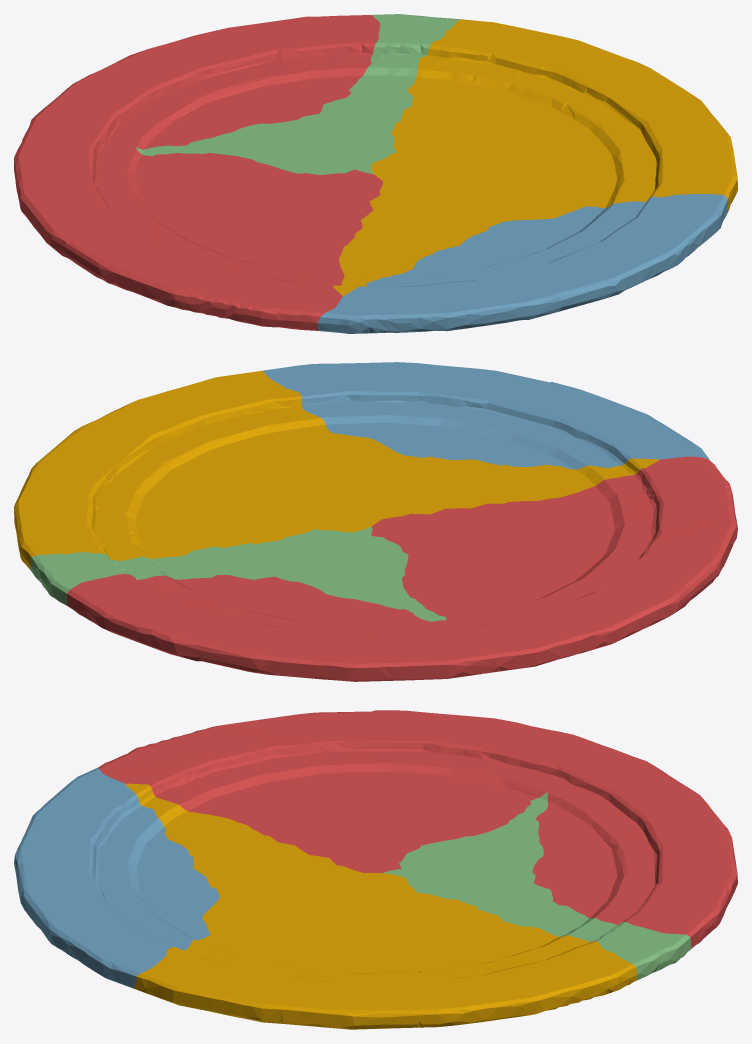
Rendered from fractured_27_4pcs.glb.
The picture shows the model from 3 angles, top to bottom: view 1: azimuth 30°, elevation 25°; view 2: azimuth 150°, elevation 25°; view 3: azimuth 270°, elevation 25°; orthographic projection.
Parts seen in each view (by area): view 1: piece_1.obj, piece_0.obj, piece_2.obj, piece_3.obj; view 2: piece_1.obj, piece_0.obj, piece_2.obj, piece_3.obj; view 3: piece_1.obj, piece_0.obj, piece_2.obj, piece_3.obj.
Boxes of the visible parts, x1=… form: piece_1.obj: x1=14, y1=15, x2=382, y2=330; piece_0.obj: x1=333, y1=19, x2=737, y2=295; piece_2.obj: x1=317, y1=194, x2=728, y2=333; piece_3.obj: x1=135, y1=14, x2=459, y2=174; piece_1.obj: x1=67, y1=456, x2=737, y2=681; piece_0.obj: x1=14, y1=370, x2=659, y2=570; piece_2.obj: x1=263, y1=362, x2=709, y2=469; piece_3.obj: x1=30, y1=526, x2=446, y2=621; piece_1.obj: x1=97, y1=710, x2=737, y2=948; piece_0.obj: x1=125, y1=783, x2=637, y2=1029; piece_2.obj: x1=14, y1=768, x2=219, y2=988; piece_3.obj: x1=383, y1=792, x2=691, y2=980.
Size of the model in its own units: 1 by 0.0277 by 0.9998.
